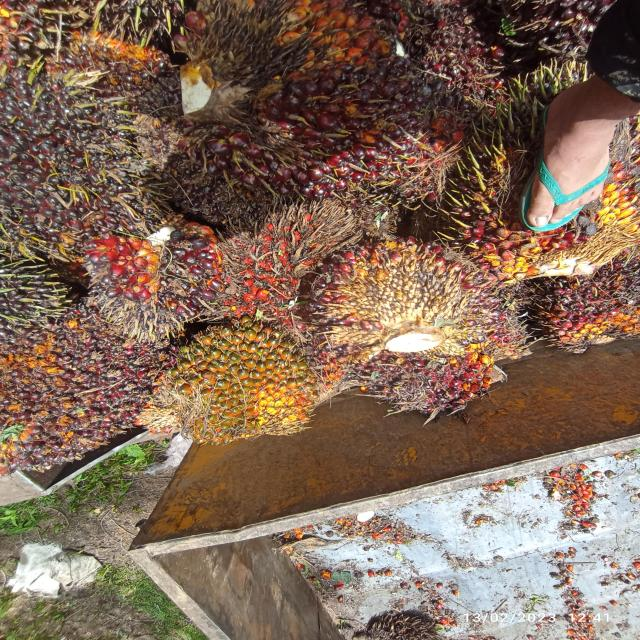fraksi 1: (0, 26, 172, 245), (79, 229, 219, 333)
fraksi 3: (177, 0, 477, 215), (6, 316, 153, 465)
fraksi 4: (209, 184, 337, 335)
